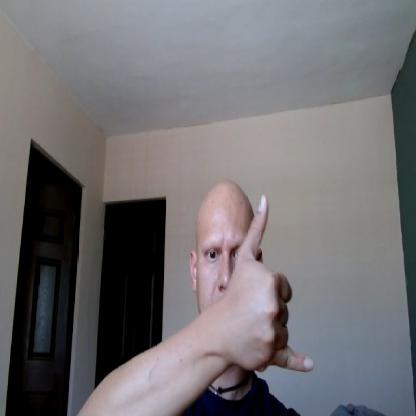Y: (226, 196, 314, 375)
